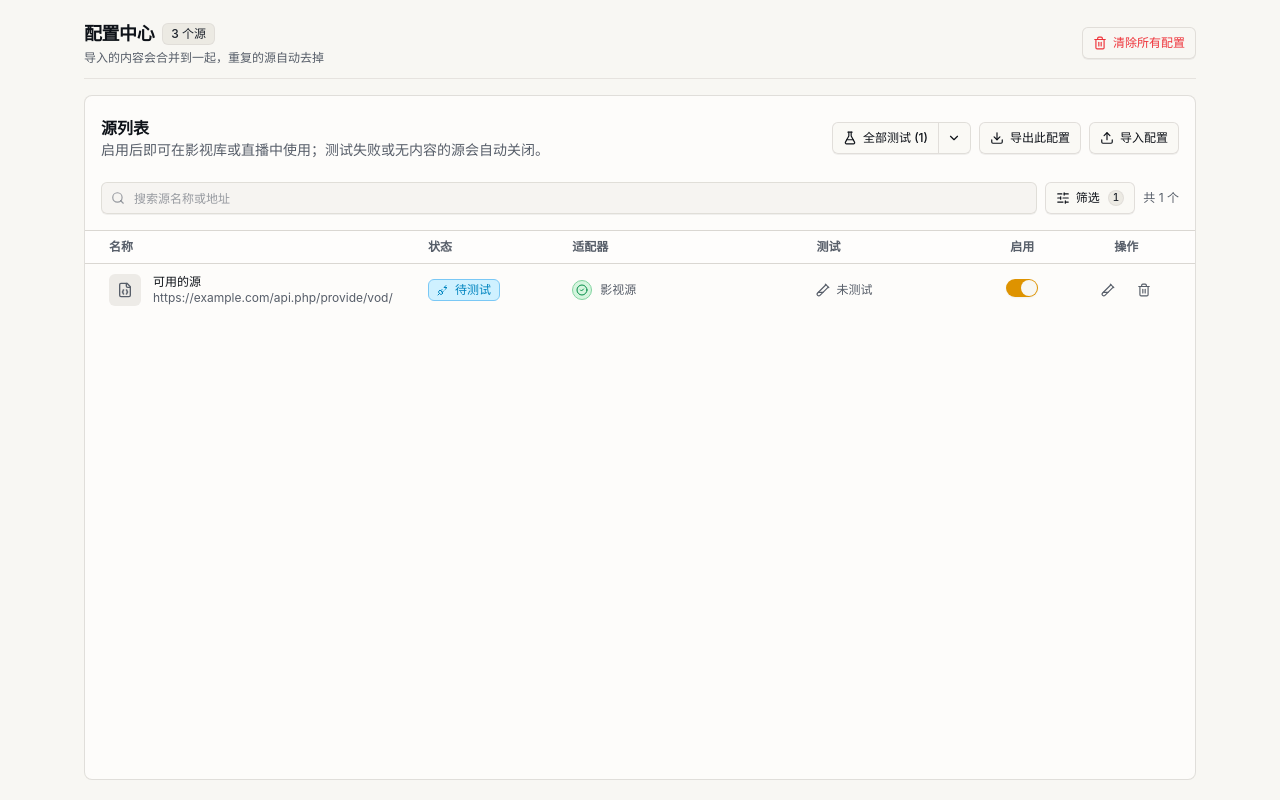
Test: config center › combines choices across groups
The width and height of the screenshot is (1280, 800).
Step 1. Click the button "筛选 1" → (1090, 198), box 1045,182 -> 1135,214
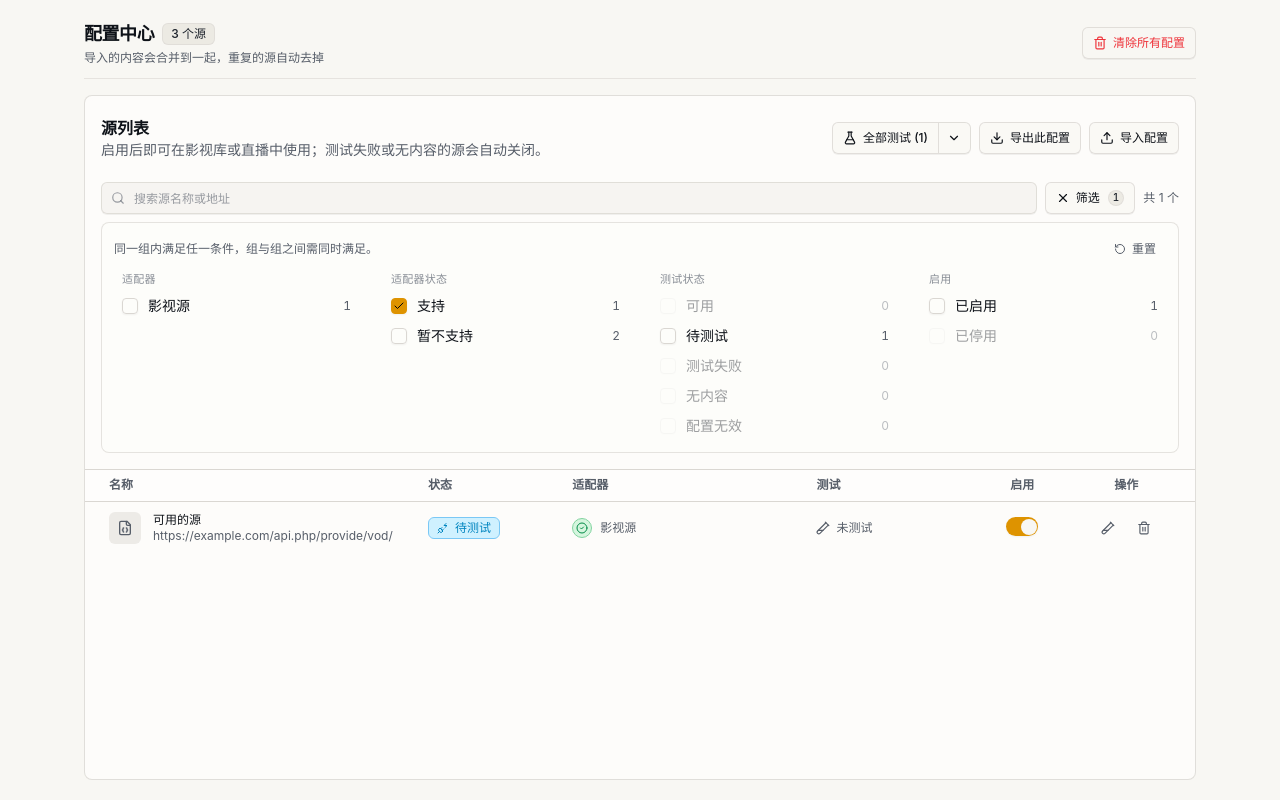
Step 2. Click the button "重置" → (1135, 249), box 1104,235 -> 1166,263
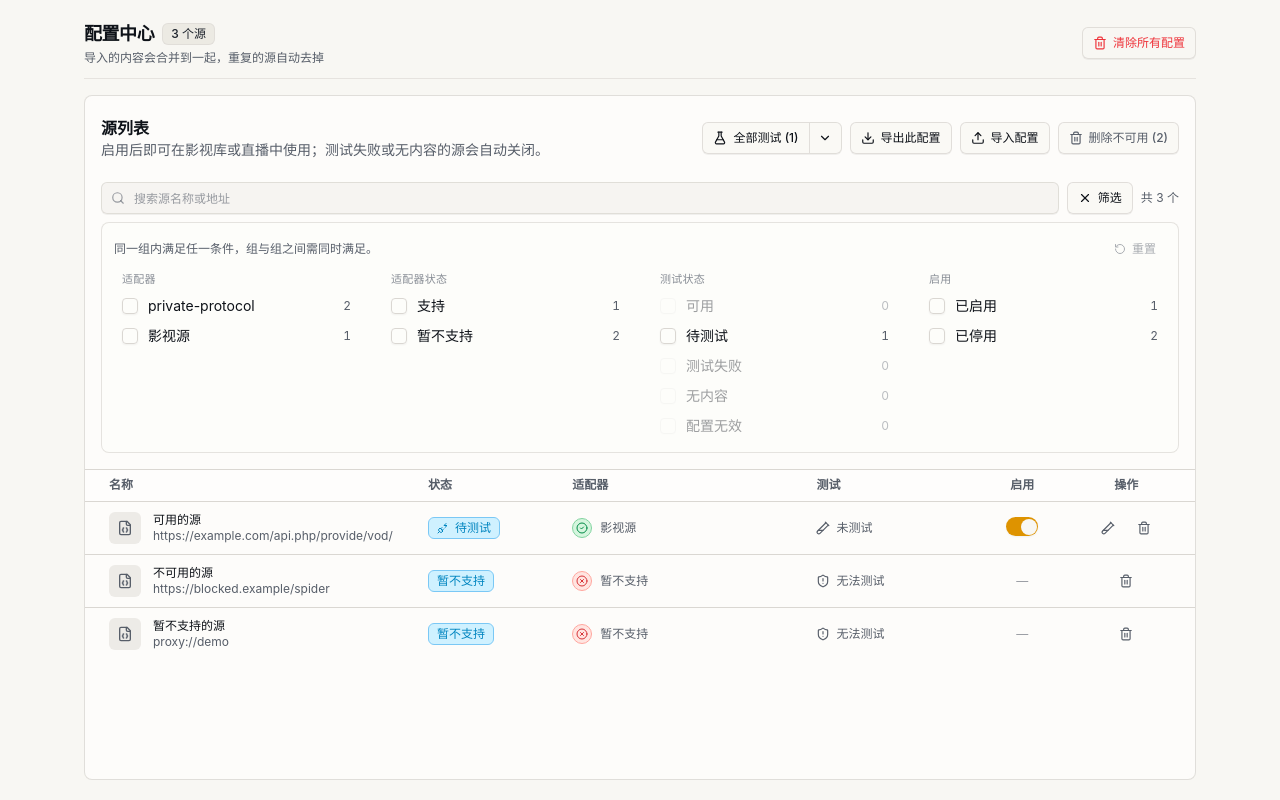
Step 3. Click the checkbox named "支持" → (399, 306), box 391,298 -> 407,314
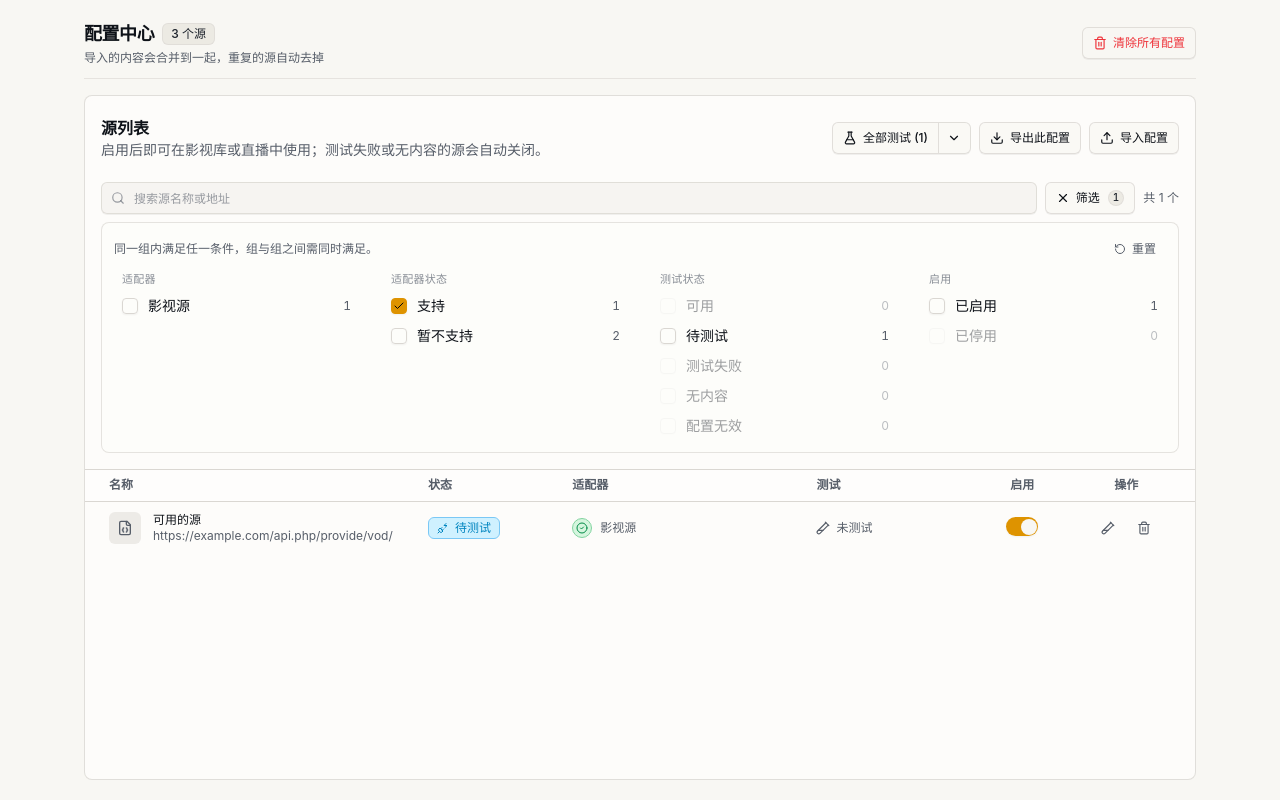
Expected: the text "可用的源" is shown, 153,512 -> 201,527
Now the text "不可用的源" is gone
Now the text "暂不支持的源" is gone
Step 4. Click the checkbox named "已启用" → (937, 306), box 929,298 -> 945,314
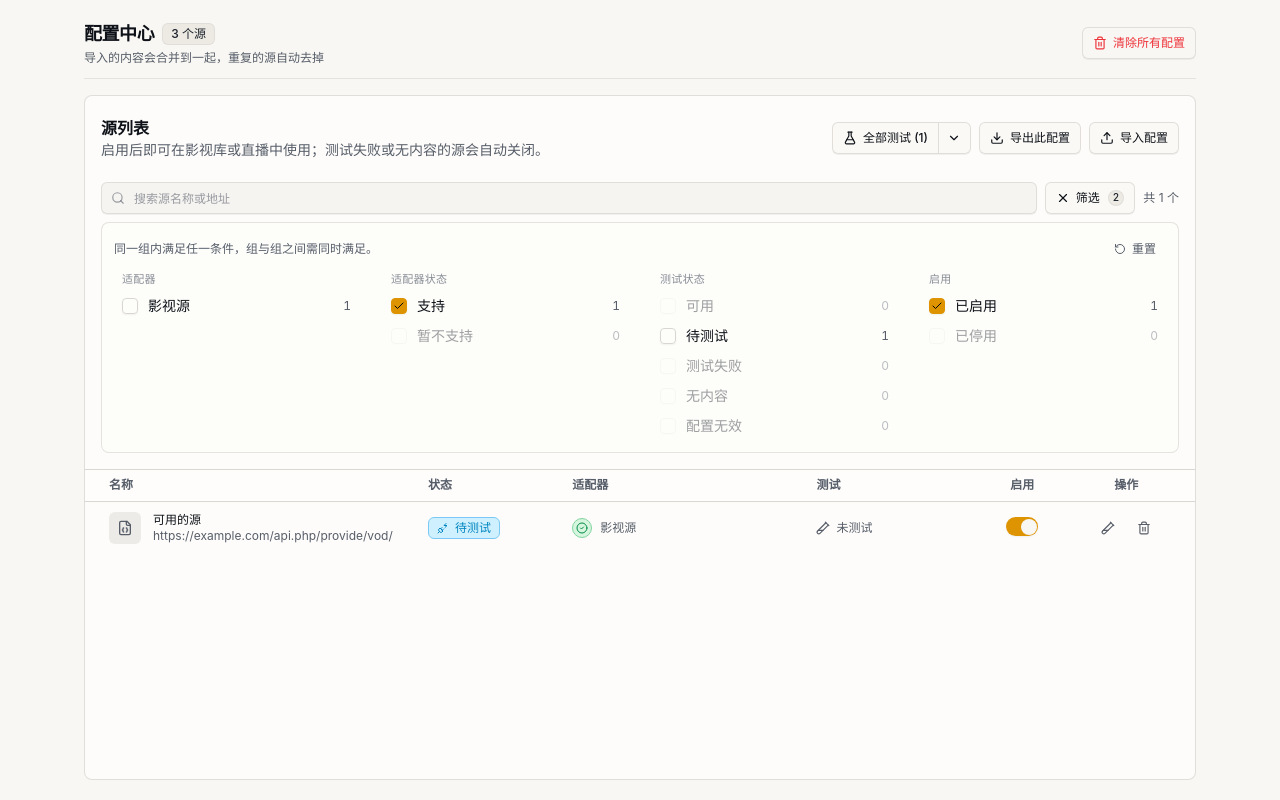
Expected: the text "可用的源" is shown, 153,512 -> 201,527
Step 5. Click the checkbox named "支持" → (399, 306), box 391,298 -> 407,314
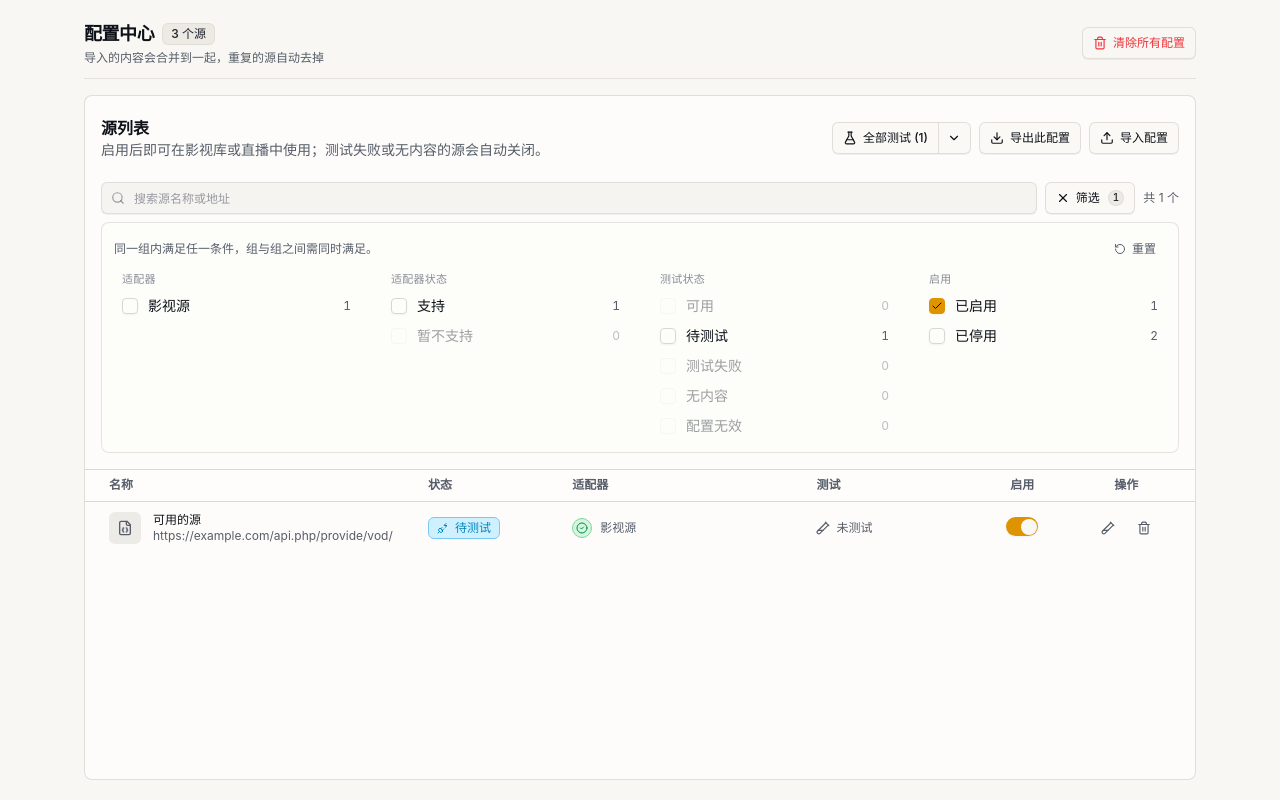
Expected: the text "可用的源" is shown, 153,512 -> 201,527
Expected: the text "不可用的源" is not shown
Step 6. Click the checkbox named "已启用" → (937, 306), box 929,298 -> 945,314
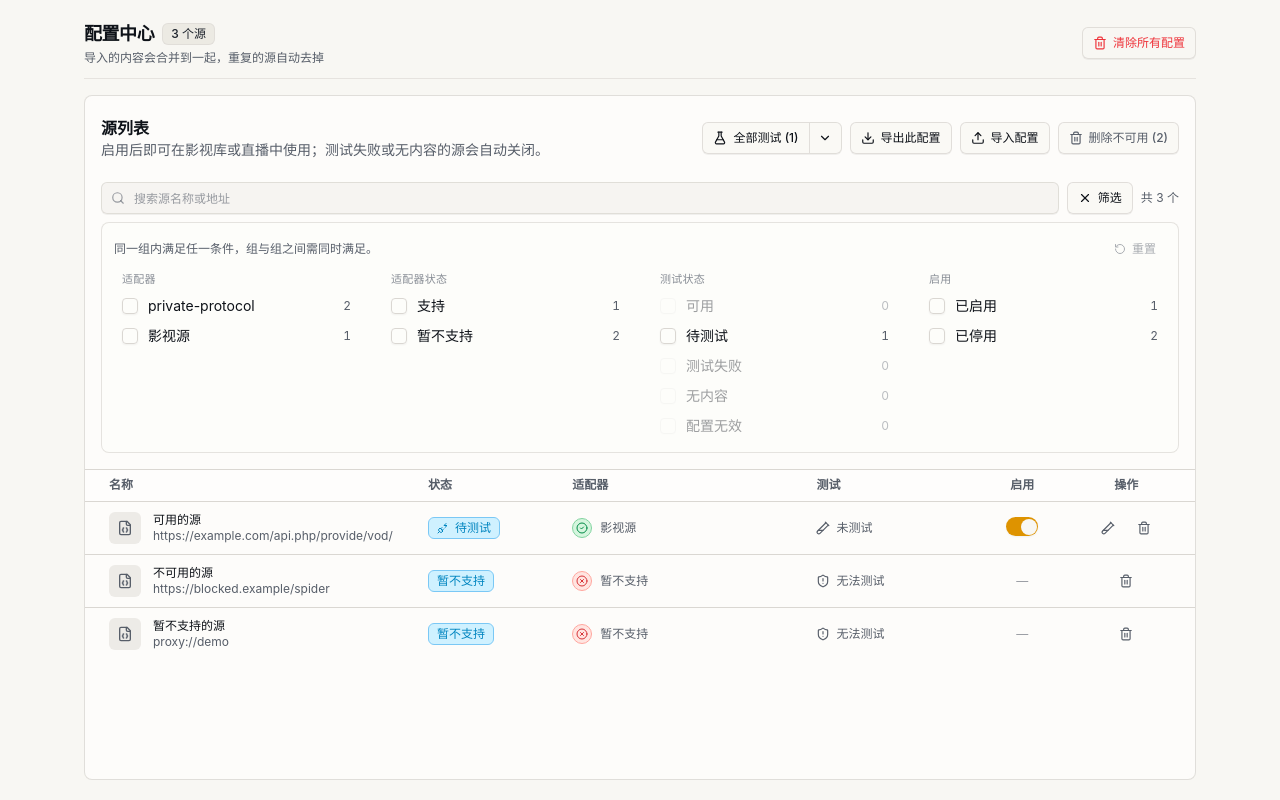
Now the text "不可用的源" is shown, box 153,565 -> 213,580
Now the text "暂不支持的源" is shown, box 153,618 -> 229,634
